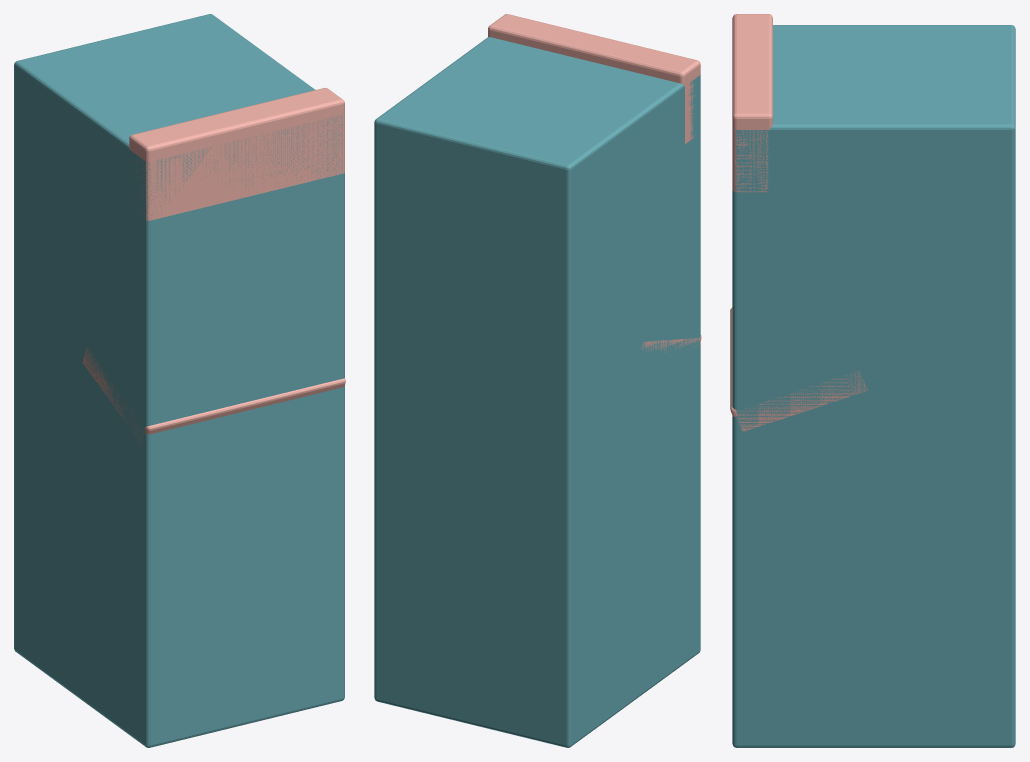
Rendered from Arcade.fbx.
The picture shows the model from 3 angles, left to right: view 1: azimuth 30°, elevation 25°; view 2: azimuth 150°, elevation 25°; view 3: azimuth 270°, elevation 25°; orthographic projection. The views are drawn at different scales.
Visible parts, largest first — view 1: Arcade; view 2: Arcade; view 3: Arcade.
Part boxes in pixels (<box>): Arcade: <box>14,14,345,747</box>; Arcade: <box>374,14,701,747</box>; Arcade: <box>730,14,1015,747</box>.
Size of the model in its own units: 0.6 by 1.73 by 0.7052.
